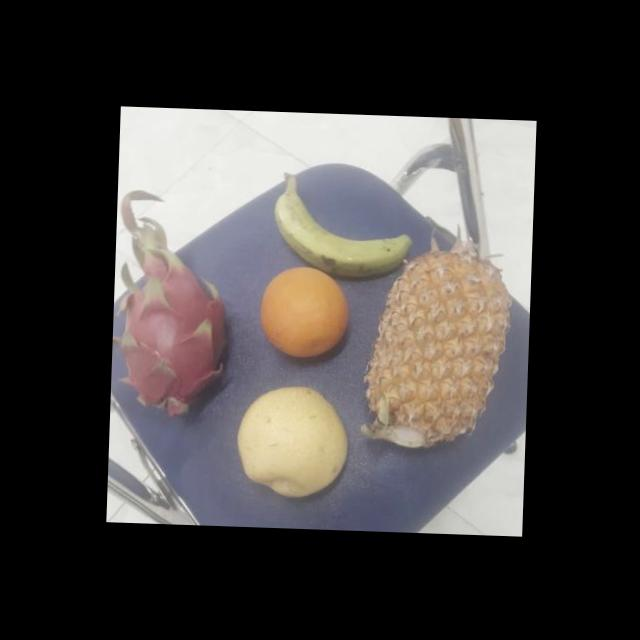banana: (273, 178, 414, 278)
orange: (258, 264, 354, 358)
pear: (234, 384, 356, 498), (256, 266, 353, 359)
pineapple: (361, 249, 516, 454)
pitaya: (109, 247, 236, 418)
